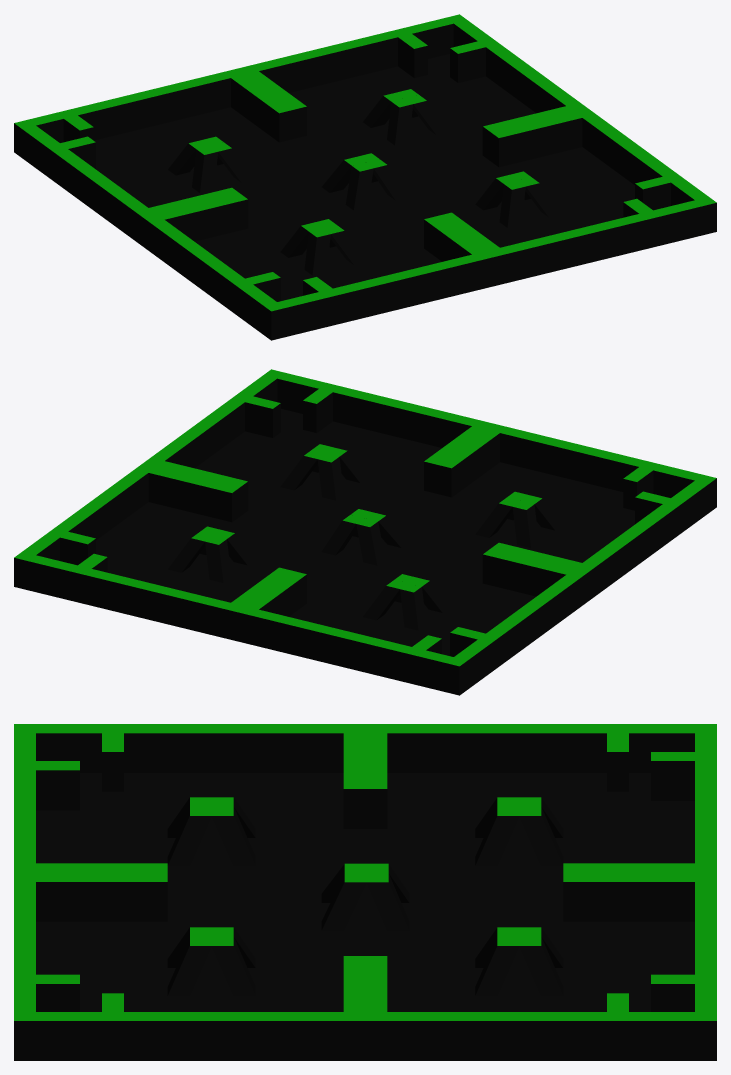
The model's file is largemap.obj.
3 views of the same model, one above another, from view 1: azimuth 30°, elevation 25°; view 2: azimuth 150°, elevation 25°; view 3: azimuth 270°, elevation 25° (orthographic). The views are drawn at different scales.
Visible parts, largest first — view 1: Plane; view 2: Plane; view 3: Plane.
Boxes of the visible parts, box(x1,y1,x2,y2) form: Plane: box(14, 14, 716, 340); Plane: box(14, 369, 716, 695); Plane: box(14, 724, 716, 1060).
Size of the model in its own units: 15.99 by 1 by 15.99.
